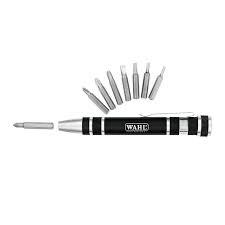screwdriver: (56, 113, 212, 136), (57, 114, 212, 136), (81, 86, 107, 113), (93, 77, 114, 109), (105, 69, 122, 105), (147, 65, 164, 99), (118, 65, 131, 101), (139, 60, 151, 98), (12, 120, 54, 129), (130, 61, 138, 99)
